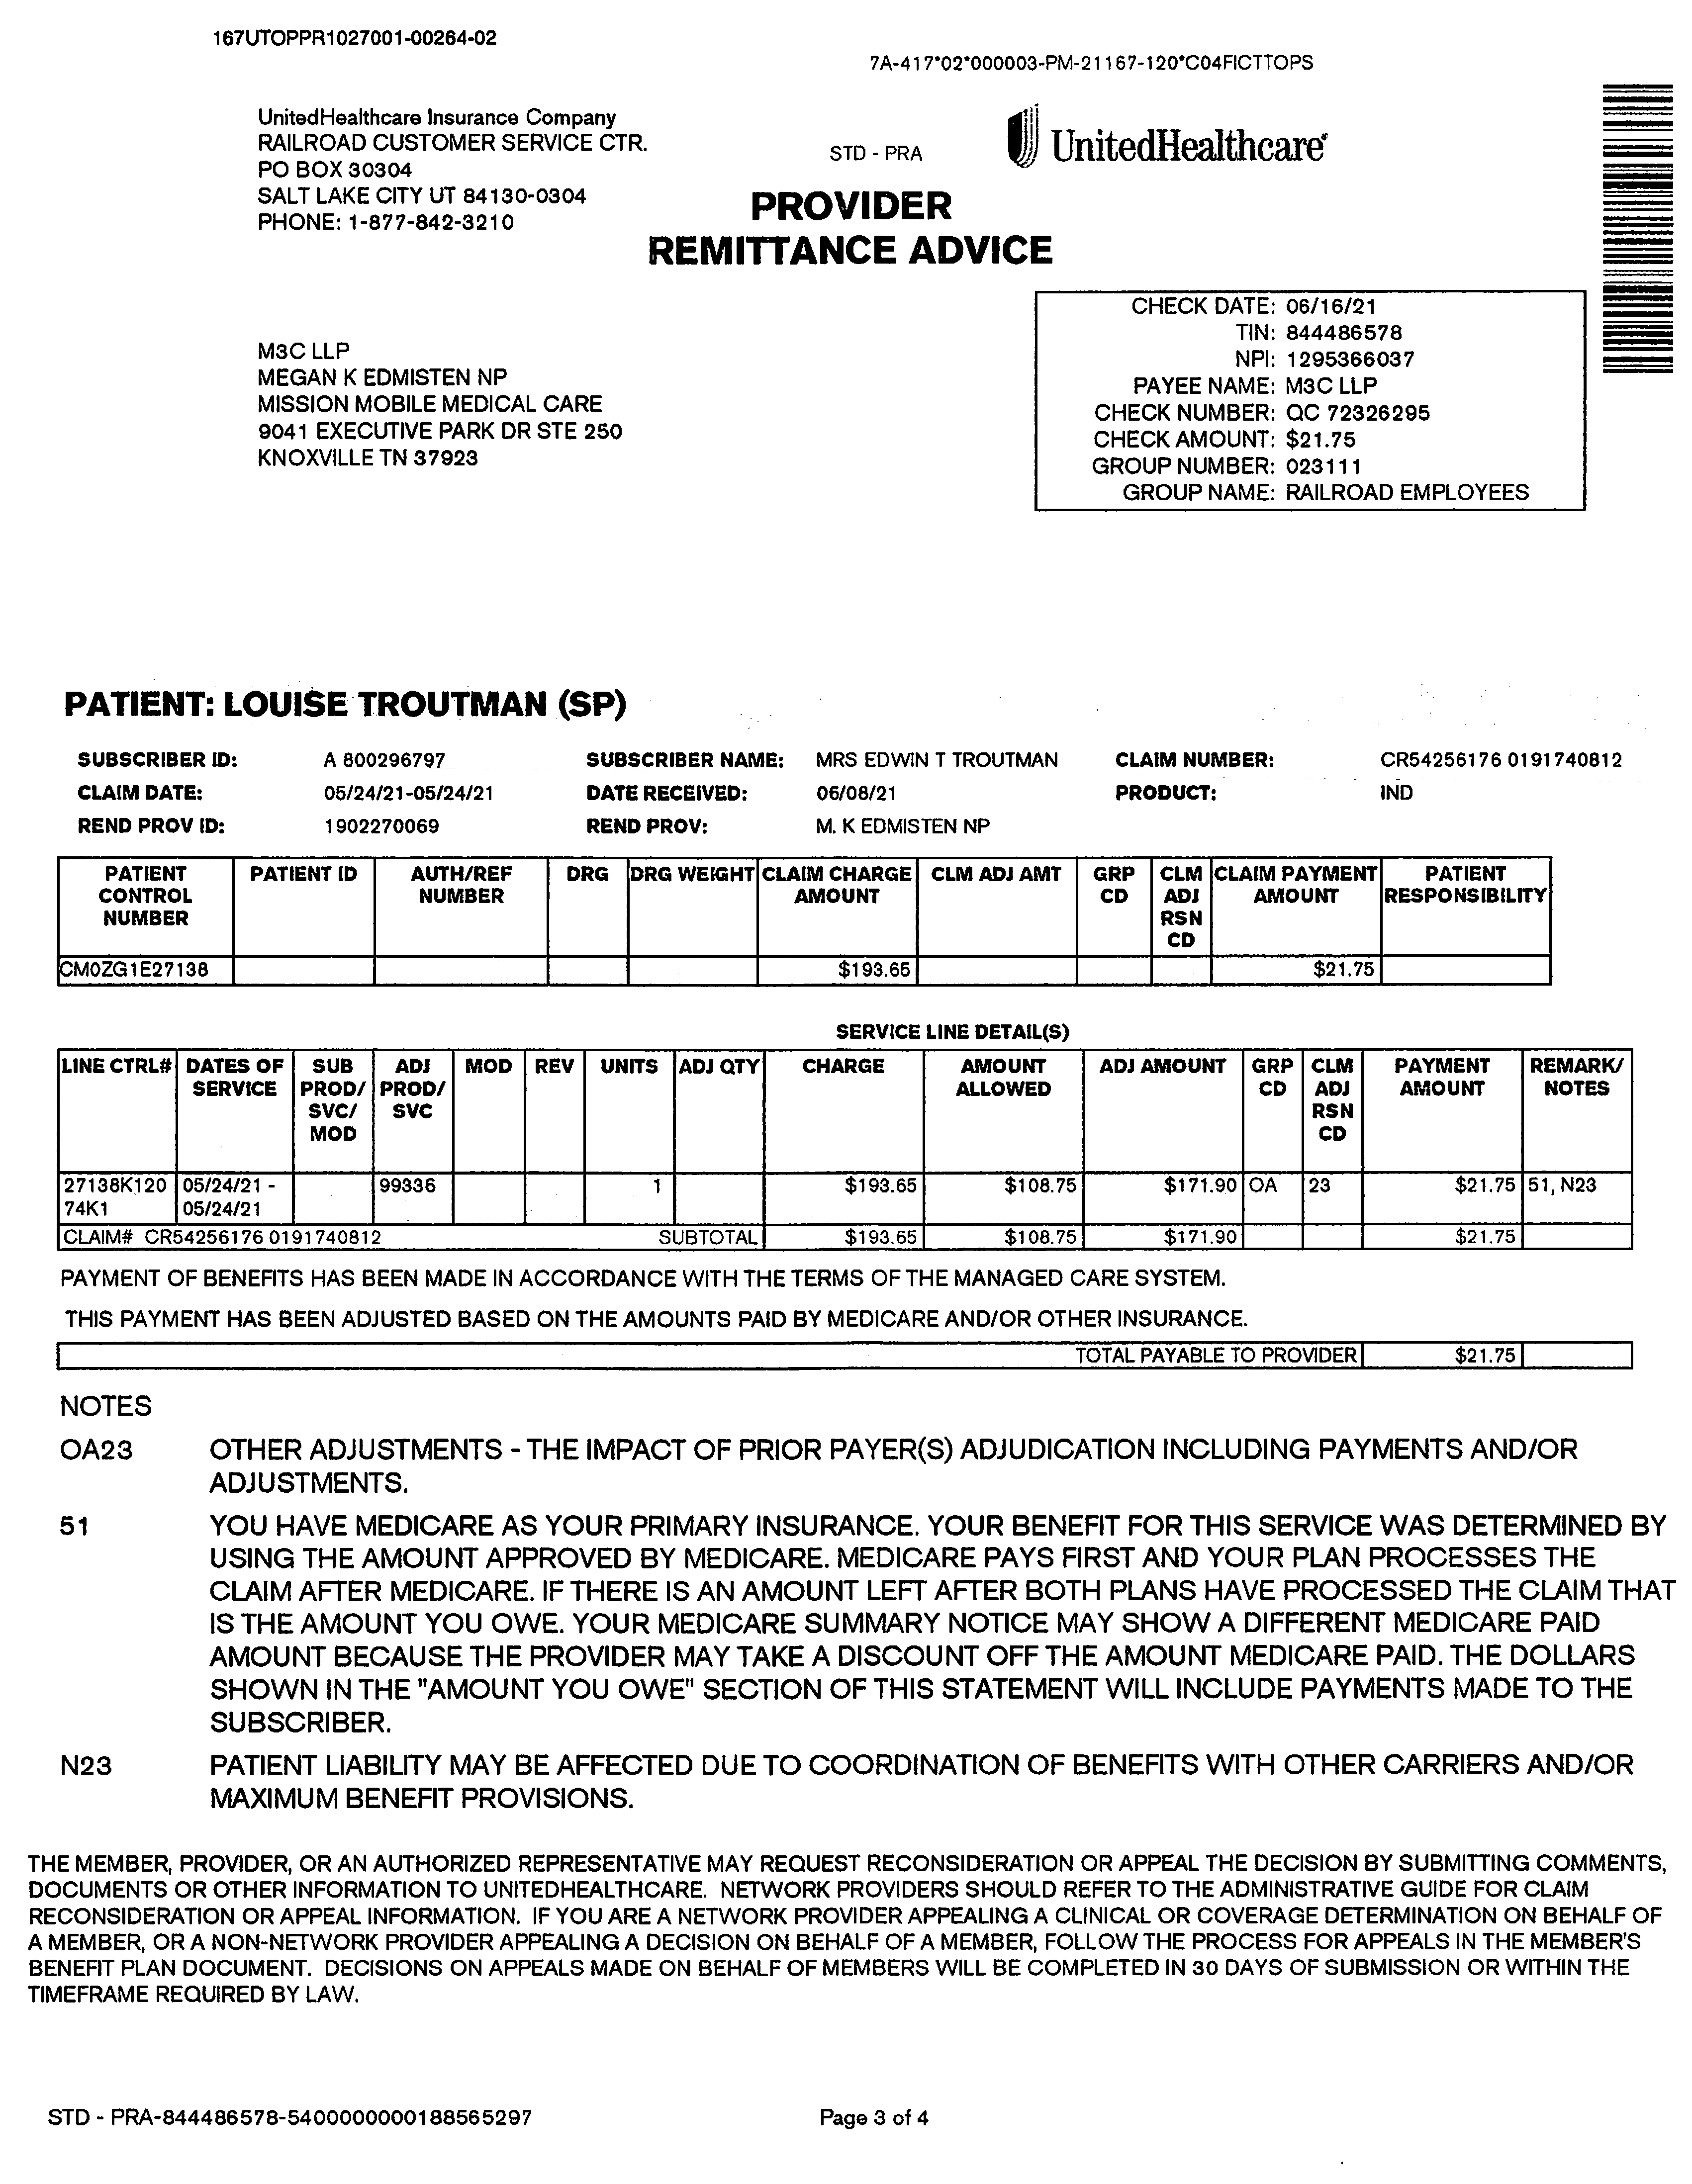data: (1020, 278, 1603, 532), (243, 323, 672, 498), (548, 723, 1077, 851), (53, 732, 504, 844), (1096, 736, 1637, 828)
table: (30, 1034, 1644, 1267), (44, 851, 1571, 996)
